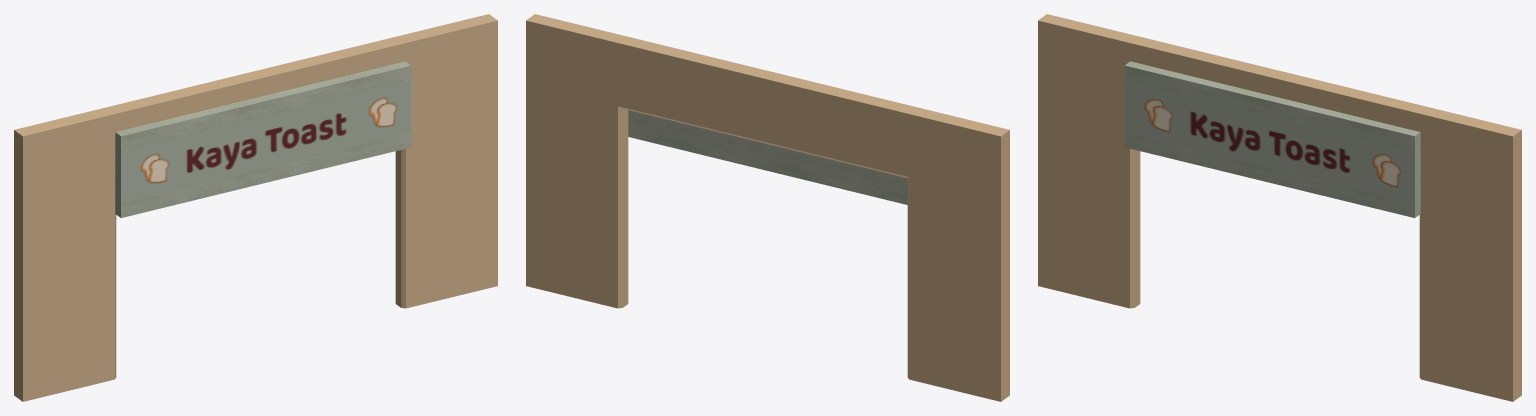
Rendered from bread stall front.fbx.
3 renders of one model, left to right at view 1: azimuth 30°, elevation 25°; view 2: azimuth 150°, elevation 25°; view 3: azimuth 330°, elevation 25°, orthographic.
Visible parts, largest first — view 1: stall_entrance, signage2; view 2: stall_entrance, signage2; view 3: stall_entrance, signage2.
Part boxes in pixels (x1,y1,x2,y2): stall_entrance: (14, 14, 497, 401); signage2: (115, 61, 411, 217); stall_entrance: (526, 14, 1009, 401); signage2: (628, 110, 907, 204); stall_entrance: (1038, 14, 1521, 401); signage2: (1124, 61, 1420, 217).
Size of the model in its own units: 400 by 214 by 21.39.
2 materials, 2 textured.
